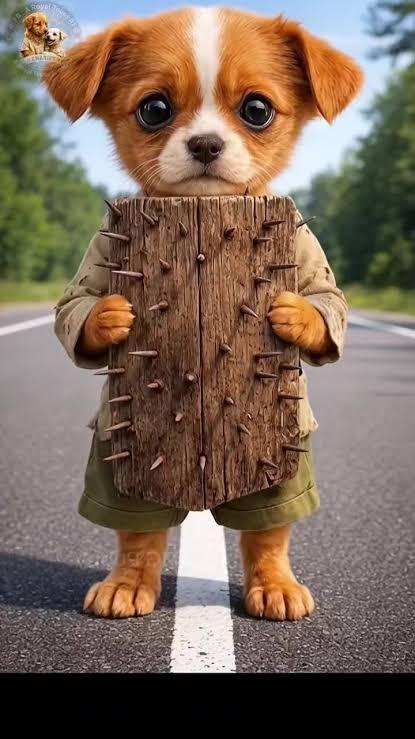adult_dog: (19, 12, 54, 57)
puppy-dog: (42, 5, 365, 624), (44, 27, 67, 59)
